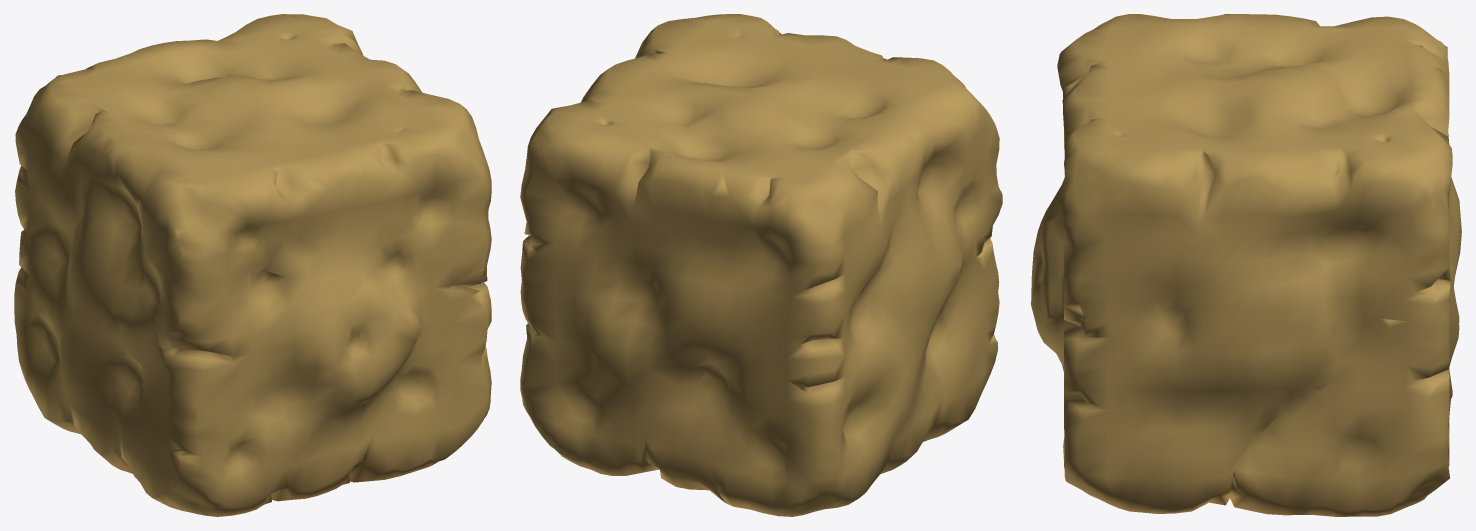
File: original_glb.glb
The picture shows the model from 3 angles, left to right: view 1: azimuth 30°, elevation 25°; view 2: azimuth 150°, elevation 25°; view 3: azimuth 270°, elevation 25°; orthographic projection. The views are drawn at different scales.
Visible parts, largest first — view 1: tile-512-gold-nugget; view 2: tile-512-gold-nugget; view 3: tile-512-gold-nugget.
Boxes of the visible parts, bbox=[...] form: tile-512-gold-nugget: bbox=[14, 14, 491, 516]; tile-512-gold-nugget: bbox=[520, 14, 1002, 516]; tile-512-gold-nugget: bbox=[1031, 14, 1461, 516].
Bounding box in the file's own units: 0.9824 × 0.9395 × 0.998.
1 material, 1 textured.
